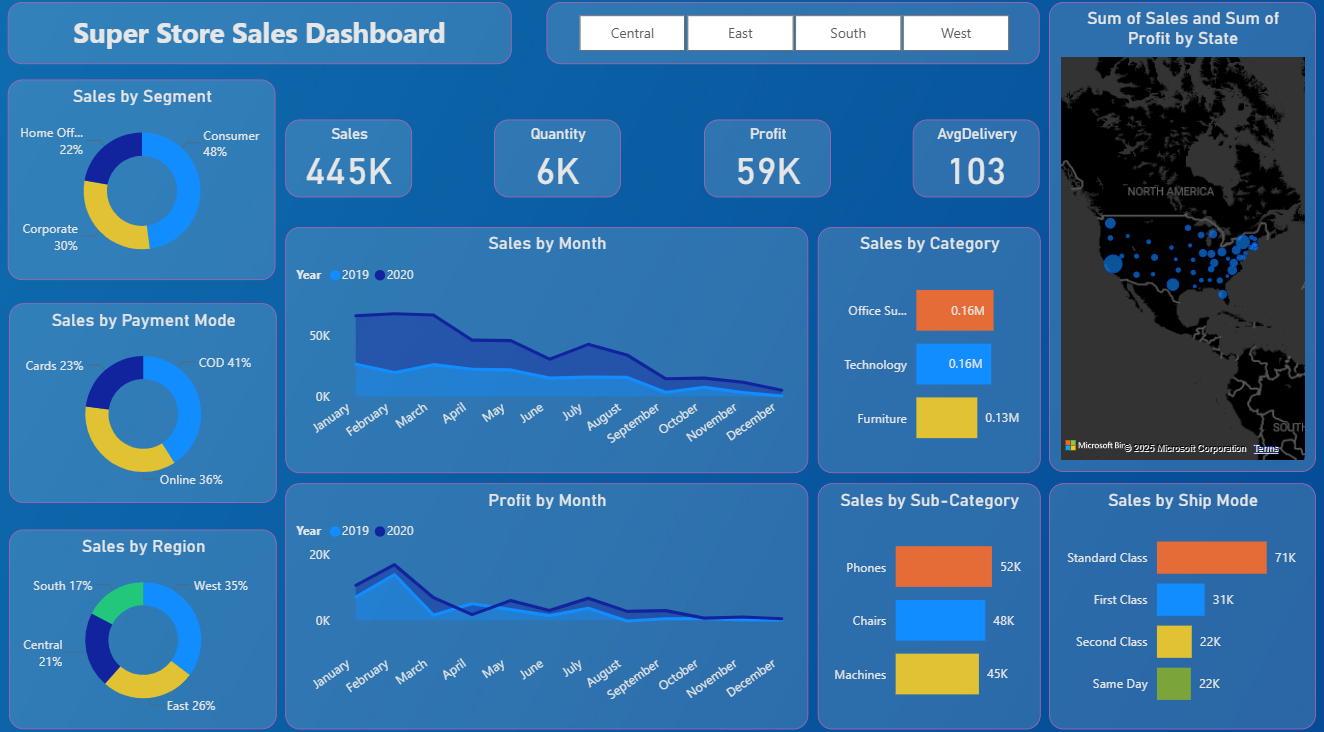

This screenshot's page, from the dashboard's own definition file:
{"tool":"powerbi","page":{"name":"Dashboard","canvas":[1280,720],"ordinal":0},"visuals":[{"type":"clusteredBarChart","title":"Sales by Category","fields":{"Category":["SuperStore_Sales_Dataset.Category"],"Y":["Sum(SuperStore_Sales_Dataset.Sales)"]},"box":[790,226.2,215,237.5],"z":0},{"type":"clusteredBarChart","title":"Sales by Sub-Category","fields":{"Y":["Sum(SuperStore_Sales_Dataset.Sales)"],"Category":["SuperStore_Sales_Dataset.Sub-Category"]},"box":[790,473.8,215,237.5],"z":1000},{"type":"clusteredBarChart","title":"Sales by Ship Mode","fields":{"Y":["Sum(SuperStore_Sales_Dataset.Sales)"],"Category":["SuperStore_Sales_Dataset.Ship Mode"]},"box":[1013.8,473.8,257.5,237.5],"z":2000},{"type":"stackedAreaChart","title":"Sales by Month","fields":{"Y":["Sum(SuperStore_Sales_Dataset.Sales)"],"Category":["SuperStore_Sales_Dataset.Order Date.Variation.Date Hierarchy.Month","SuperStore_Sales_Dataset.Order Date.Variation.Date Hierarchy.Day"],"Series":["SuperStore_Sales_Dataset.Order Date.Variation.Date Hierarchy.Year"]},"box":[276.2,226.2,505,237.5],"z":3000},{"type":"stackedAreaChart","title":"Profit by Month","fields":{"Category":["SuperStore_Sales_Dataset.Order Date.Variation.Date Hierarchy.Month","SuperStore_Sales_Dataset.Order Date.Variation.Date Hierarchy.Day"],"Series":["SuperStore_Sales_Dataset.Order Date.Variation.Date Hierarchy.Year"],"Y":["Sum(SuperStore_Sales_Dataset.Profit)"]},"box":[276.2,473.8,505,237.5],"z":4000},{"type":"map","fields":{"Category":["SuperStore_Sales_Dataset.State"],"Size":["Sum(SuperStore_Sales_Dataset.Sales)"]},"box":[1013.8,10,257.5,453.8],"z":5000},{"type":"donutChart","title":"Sales by Segment","fields":{"Category":["SuperStore_Sales_Dataset.Segment"],"Y":["Sum(SuperStore_Sales_Dataset.Sales)"]},"box":[8.8,85,258.8,193.8],"z":5001},{"type":"donutChart","title":"Sales by Payment Mode","fields":{"Y":["Sum(SuperStore_Sales_Dataset.Sales)"],"Category":["SuperStore_Sales_Dataset.Payment Mode"]},"box":[10,300,258.8,192.5],"z":5002},{"type":"slicer","fields":{"Values":["SuperStore_Sales_Dataset.Region"]},"box":[528.8,10,476.2,60],"z":5003},{"type":"textbox","box":[8.8,10,486.2,60],"z":5004},{"type":"card","title":"Sales","fields":{"Values":["Sum(SuperStore_Sales_Dataset.Sales)"]},"box":[276.2,122.5,122.5,75],"z":5005},{"type":"card","title":"Quantity","fields":{"Values":["Sum(SuperStore_Sales_Dataset.Quantity)"]},"box":[478.3,122.5,122.5,75],"z":5006},{"type":"card","title":"Profit","fields":{"Values":["Sum(SuperStore_Sales_Dataset.Profit)"]},"box":[680.4,122.5,122.5,75],"z":5007},{"type":"card","title":"AvgDelivery","fields":{"Values":["Avg(SuperStore_Sales_Dataset.AvgDelivery)"]},"box":[882.5,122.5,122.5,75],"z":5008},{"type":"donutChart","title":"Sales by Region","fields":{"Y":["Sum(SuperStore_Sales_Dataset.Sales)"],"Category":["SuperStore_Sales_Dataset.Region"]},"box":[10,518.8,258.8,192.5],"z":5009}]}

Visuals, with their boxes in screenshot pixels (x1, y1, x2, y2), scaled from the page's 1280x720 canvas onto the 1324x732 screenshot:
"Sales by Category" clusteredBarChart: Rect(817, 230, 1040, 471)
"Sales by Sub-Category" clusteredBarChart: Rect(817, 482, 1040, 723)
"Sales by Ship Mode" clusteredBarChart: Rect(1049, 482, 1315, 723)
"Sales by Month" stackedAreaChart: Rect(286, 230, 808, 471)
"Profit by Month" stackedAreaChart: Rect(286, 482, 808, 723)
map - SuperStore_Sales_Dataset.State x Sum(SuperStore_Sales_Dataset.Sales): Rect(1049, 10, 1315, 472)
"Sales by Segment" donutChart: Rect(9, 86, 277, 283)
"Sales by Payment Mode" donutChart: Rect(10, 305, 278, 501)
slicer - SuperStore_Sales_Dataset.Region: Rect(547, 10, 1040, 71)
textbox: Rect(9, 10, 512, 71)
"Sales" card: Rect(286, 125, 412, 201)
"Quantity" card: Rect(495, 125, 621, 201)
"Profit" card: Rect(704, 125, 830, 201)
"AvgDelivery" card: Rect(913, 125, 1040, 201)
"Sales by Region" donutChart: Rect(10, 527, 278, 723)
